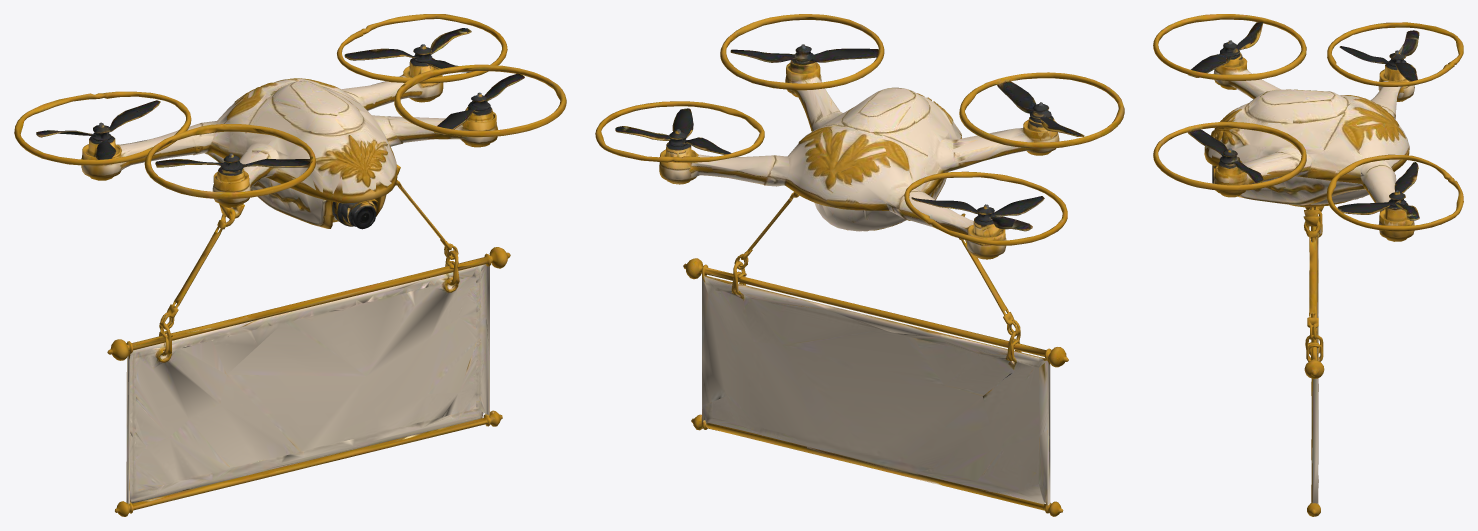
The model's file is dron.glb.
The picture shows the model from 3 angles, left to right: view 1: azimuth 30°, elevation 25°; view 2: azimuth 150°, elevation 25°; view 3: azimuth 270°, elevation 25°; orthographic projection. The views are drawn at different scales.
Parts seen in each view (by area): view 1: Mesh_0; view 2: Mesh_0; view 3: Mesh_0.
Part boxes in pixels (x1,y1,x2,y2): Mesh_0: (14, 14, 566, 516); Mesh_0: (595, 14, 1124, 516); Mesh_0: (1153, 14, 1463, 516).
Bounding box in the file's own units: 1.9 × 1.47 × 1.21.
1 material, 1 textured.
